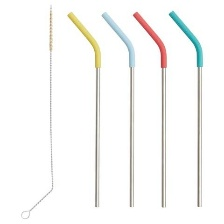drinking_straw: (59, 8, 107, 211), (166, 6, 208, 210), (129, 9, 170, 209), (99, 7, 137, 210)
